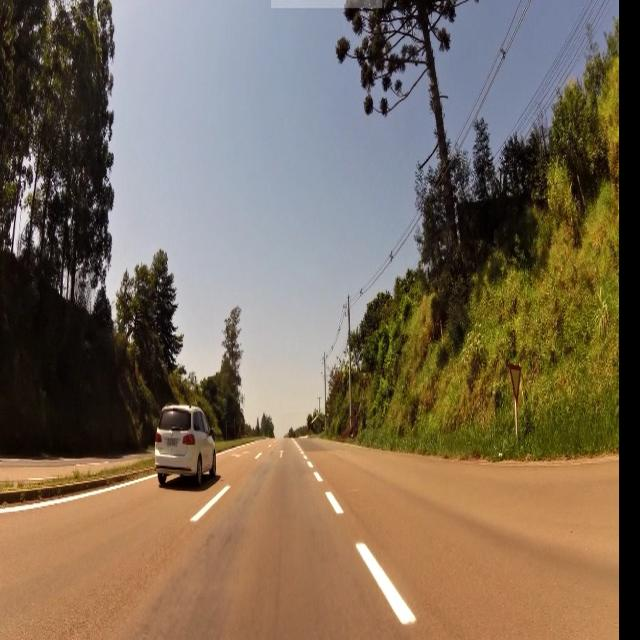R-2: (507, 355, 524, 403)
